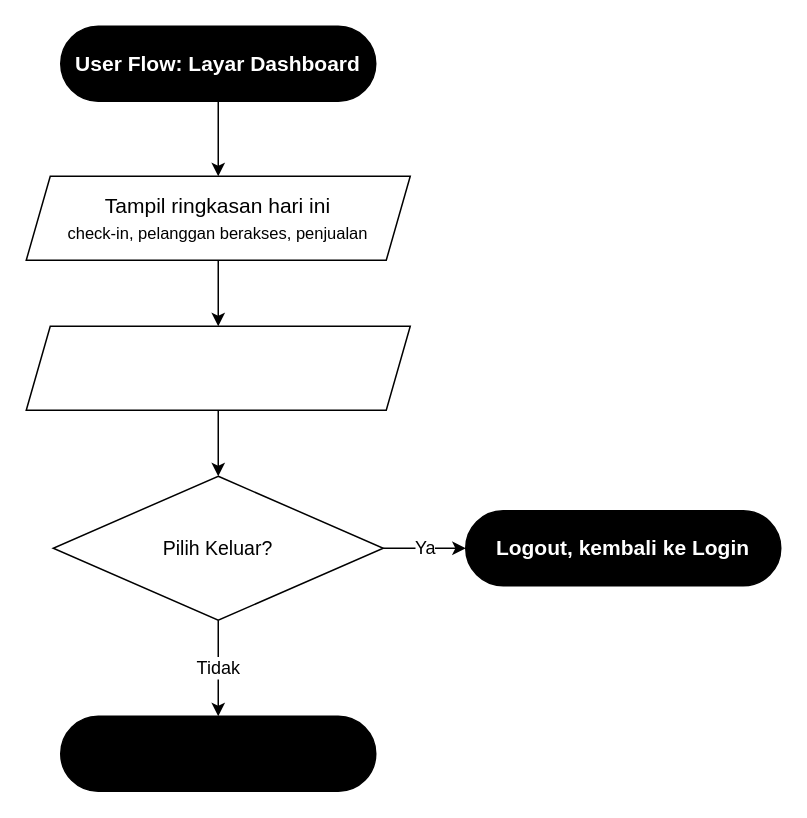
This 807x818 diagram has some shape labels left out. Here are the shapes that lost their labels. From the top down, the box of each, then its label:
(25, 325, 410, 410): User memilih menu
(59, 715, 376, 791): Buka layar yang dipilih Pelanggan, Membership, Kasir, Laporan, Akun
